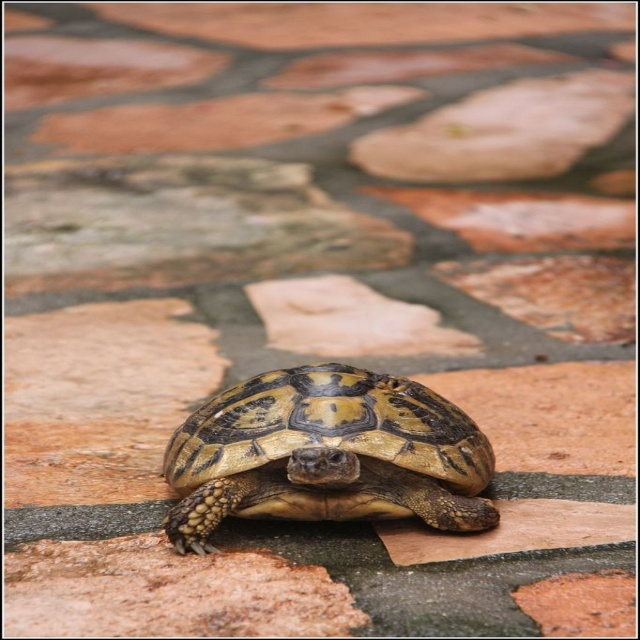Sea turtle: (164, 358, 499, 558)
